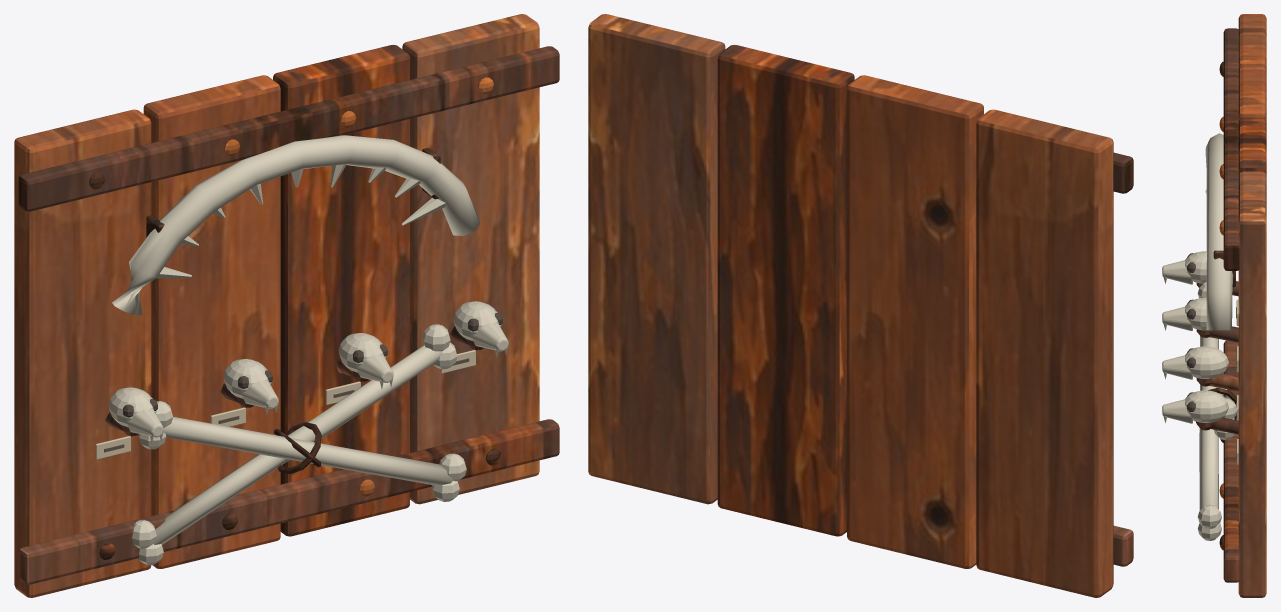
The model's file is op_bone_board.glb.
3 renders of one model, left to right at view 1: azimuth 30°, elevation 25°; view 2: azimuth 150°, elevation 25°; view 3: azimuth 270°, elevation 25°, orthographic. The views are drawn at different scales.
Visible parts, largest first — view 1: model; view 2: model; view 3: model.
Boxes of the visible parts, bbox=[...] form: model: bbox=[14, 14, 559, 597]; model: bbox=[588, 14, 1133, 597]; model: bbox=[1162, 14, 1266, 597].
Size of the model in its own units: 0.93 by 0.7601 by 0.1875.
16 materials, 12 textured.
